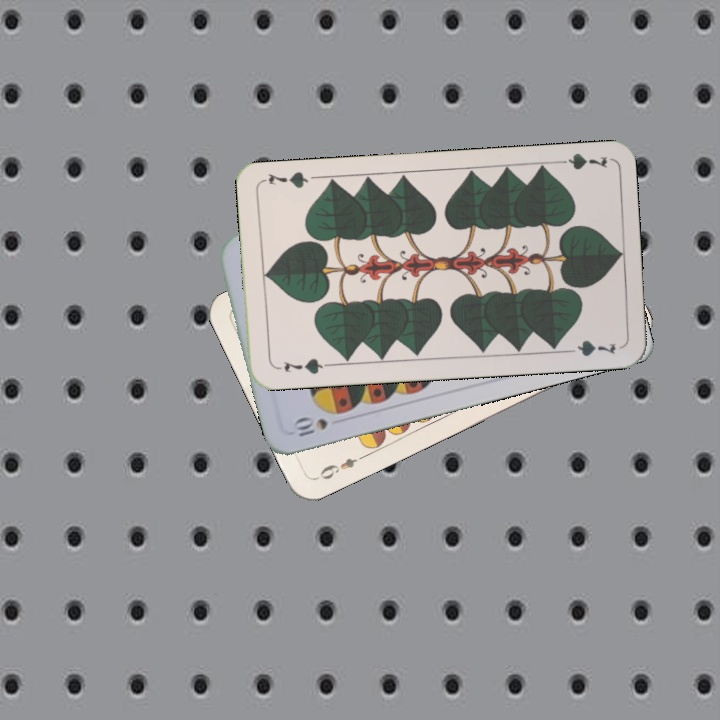E9: (312, 451, 368, 482)
G7: (550, 149, 610, 173), (280, 354, 331, 377)
S10: (289, 414, 331, 441)
